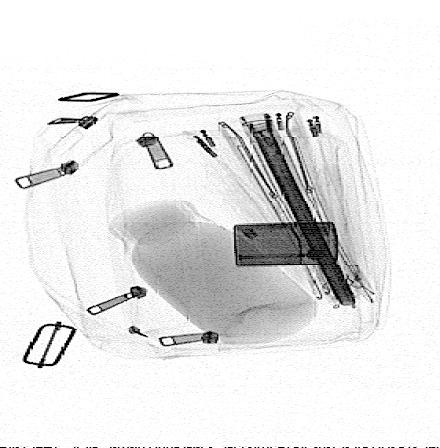Lighter: (234, 221, 340, 266)
